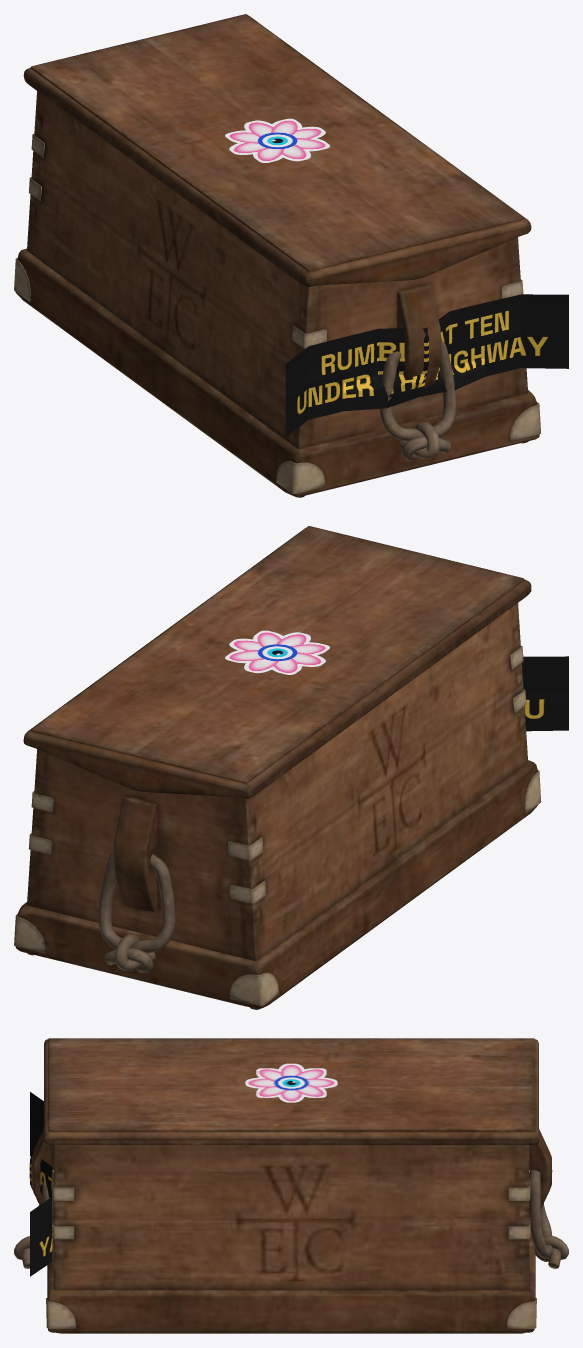
Rendered from nyb_westside_crate.glb.
3 renders of one model, top to bottom at view 1: azimuth 30°, elevation 25°; view 2: azimuth 150°, elevation 25°; view 3: azimuth 270°, elevation 25°, orthographic. The views are drawn at different scales.
Visible parts, largest first — view 1: wooden_crate_02_crate, stk_lbl_904a35b075.png, stk_eyeflower_die.png; view 2: wooden_crate_02_crate, stk_lbl_904a35b075.png, stk_eyeflower_die.png; view 3: wooden_crate_02_crate, stk_lbl_904a35b075.png, stk_eyeflower_die.png.
Boxes of the visible parts, bbox=[...] form: wooden_crate_02_crate: bbox=[14, 14, 540, 497]; stk_lbl_904a35b075.png: bbox=[285, 294, 568, 437]; stk_eyeflower_die.png: bbox=[225, 118, 329, 162]; wooden_crate_02_crate: bbox=[14, 526, 540, 1009]; stk_lbl_904a35b075.png: bbox=[522, 656, 568, 731]; stk_eyeflower_die.png: bbox=[225, 630, 329, 674]; wooden_crate_02_crate: bbox=[14, 1038, 568, 1333]; stk_lbl_904a35b075.png: bbox=[29, 1092, 52, 1276]; stk_eyeflower_die.png: bbox=[245, 1063, 337, 1102].
Bounding box in the file's own units: 0.6 × 0.4665 × 1.17.
3 materials, 3 textured.
